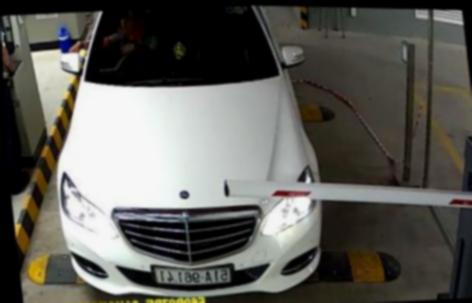License_Plate: (147, 255, 244, 291)
